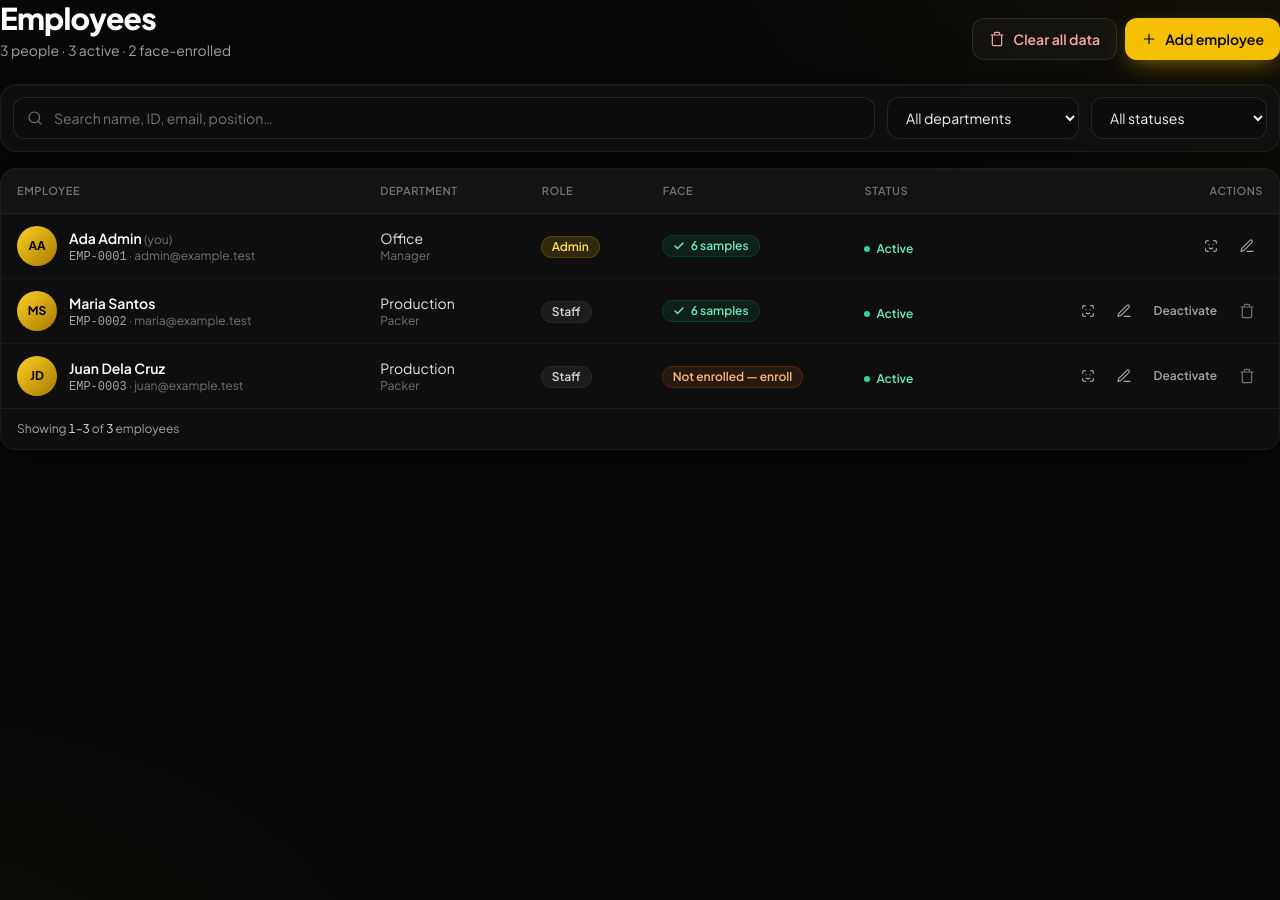
Employees page › asks before deleting an employee and explains archiving
The image size is (1280, 900).
Expected: the text "Maria Santos" is shown, [69,294,155,312]
What coordinates should you click on to do the following:
click the button named "Delete Maria Santos"
I would click on:
 (1247, 311)
Its box is [1231,295,1263,327].
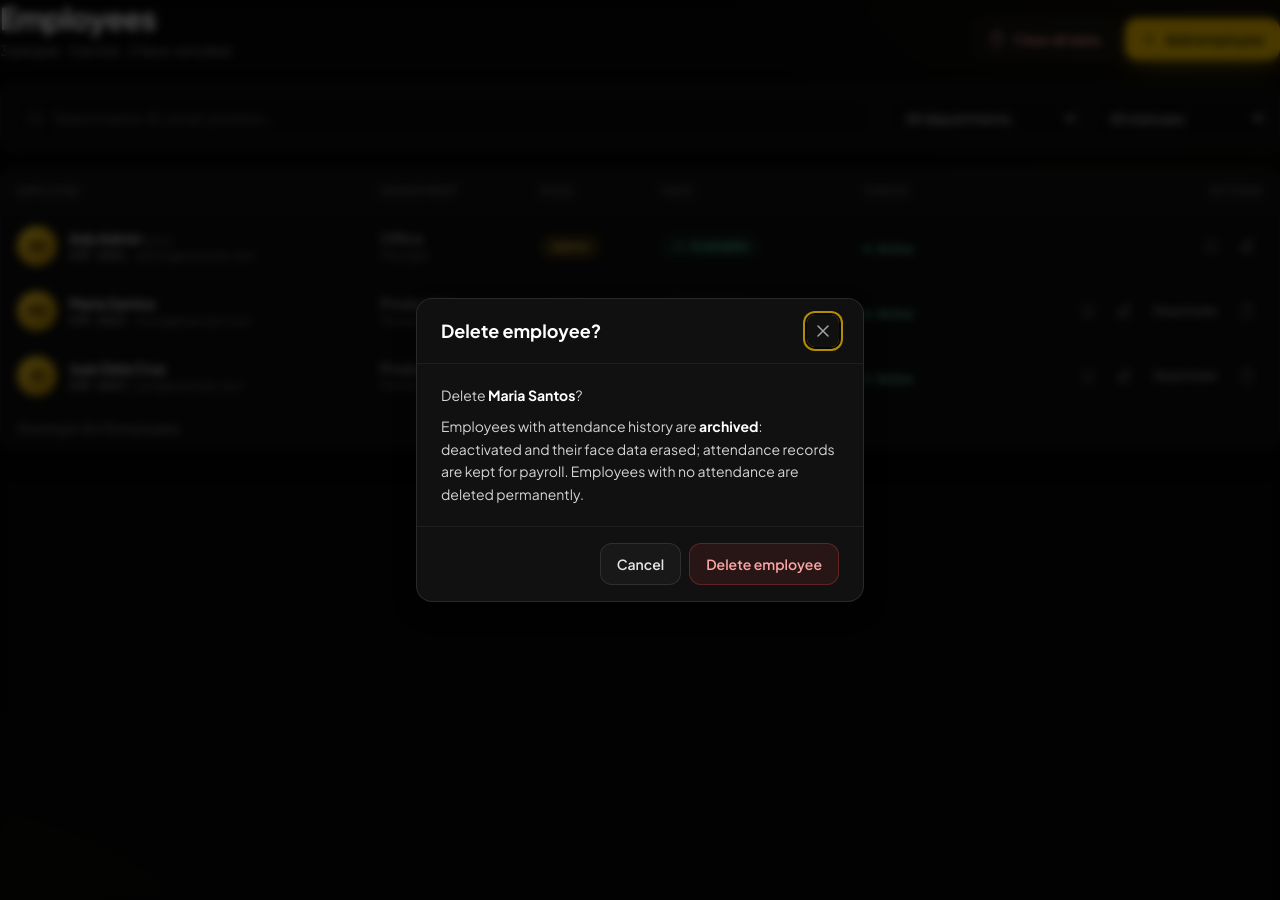
Now the text "attendance records are kept for payroll" is shown, box [441,417,835,503]
What coordinates should you click on to do the following:
click the button "Delete employee"
I would click on:
 (764, 564)
Its box is [689,543,839,585].
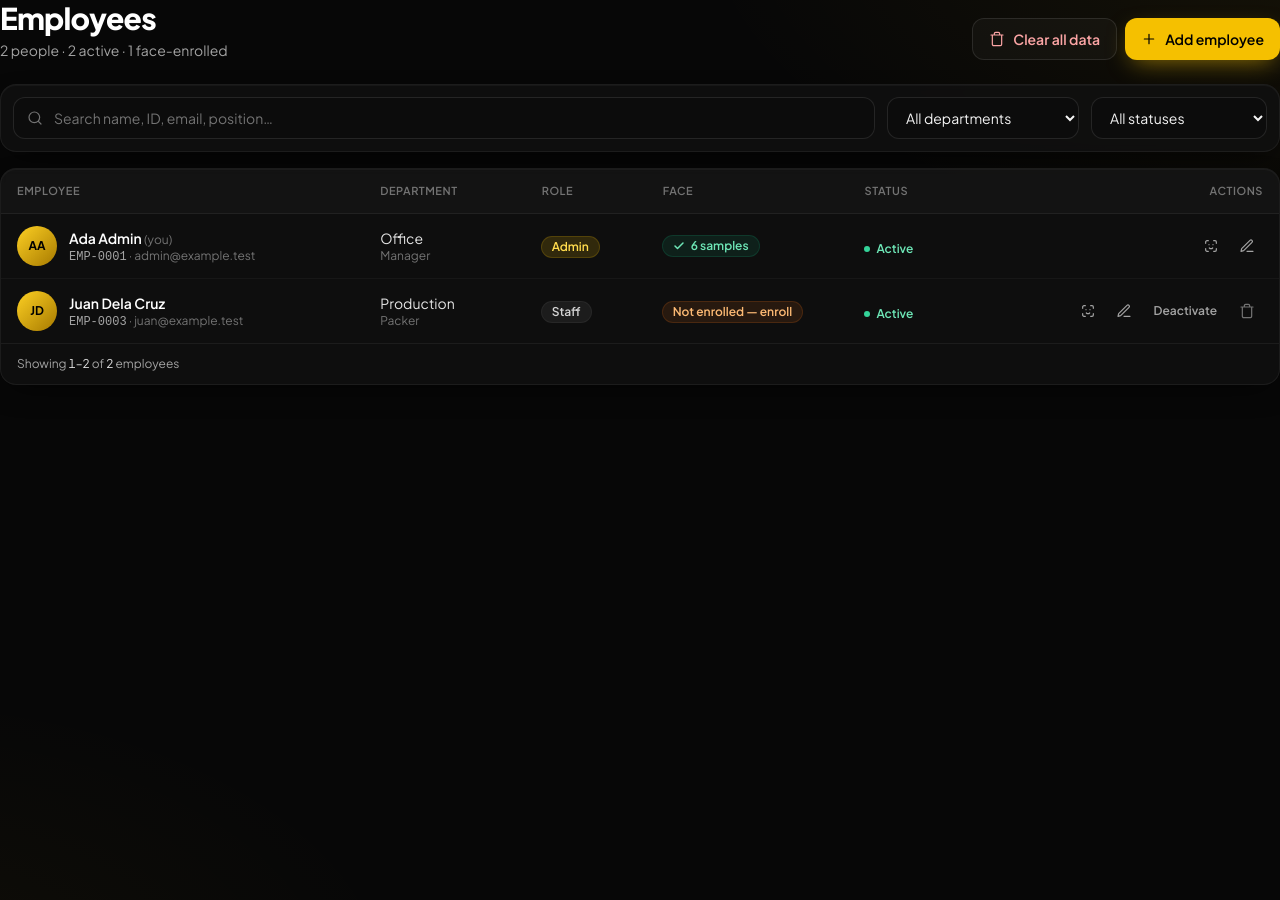
Now the text "Maria Santos" is gone
